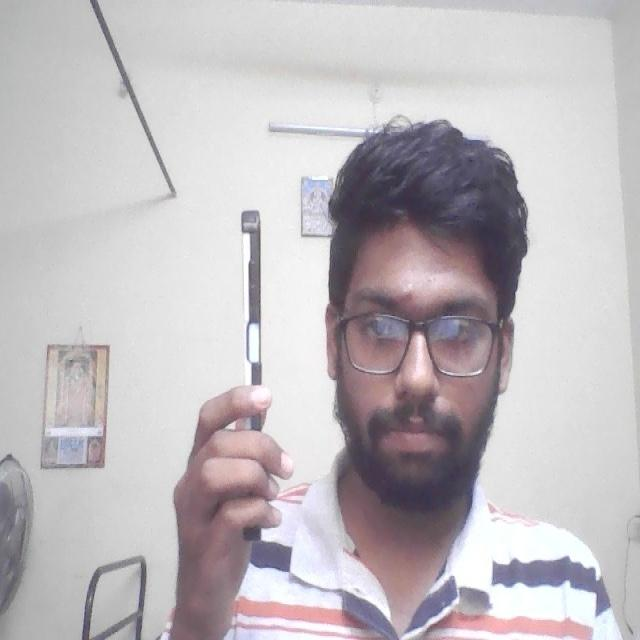Mobile: (227, 200, 275, 385)
